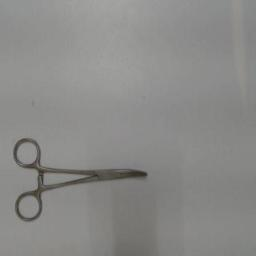Crile Artery Forceps: (12, 130, 152, 228)
